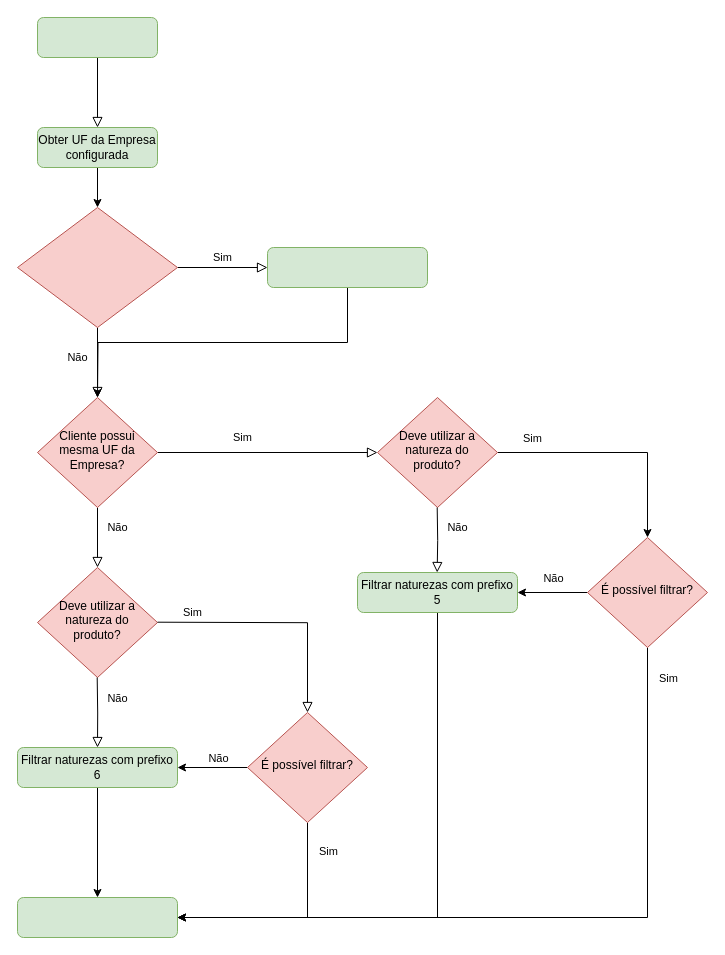
The diagram is 725 pixels wide and 955 high, and some of its shapes have lost their labels. The box of each missing label's shape, as (x1, y1, x2, y2) in pixels:
Deve Utilizar Relacionamento Filial x Natureza: (16, 206, 178, 328)
InnerJoin relfilialnaturezaoperacao: (266, 246, 428, 288)
Obter naturezas: (36, 16, 158, 58)
Retorna lista de naturezas: (16, 896, 178, 938)
